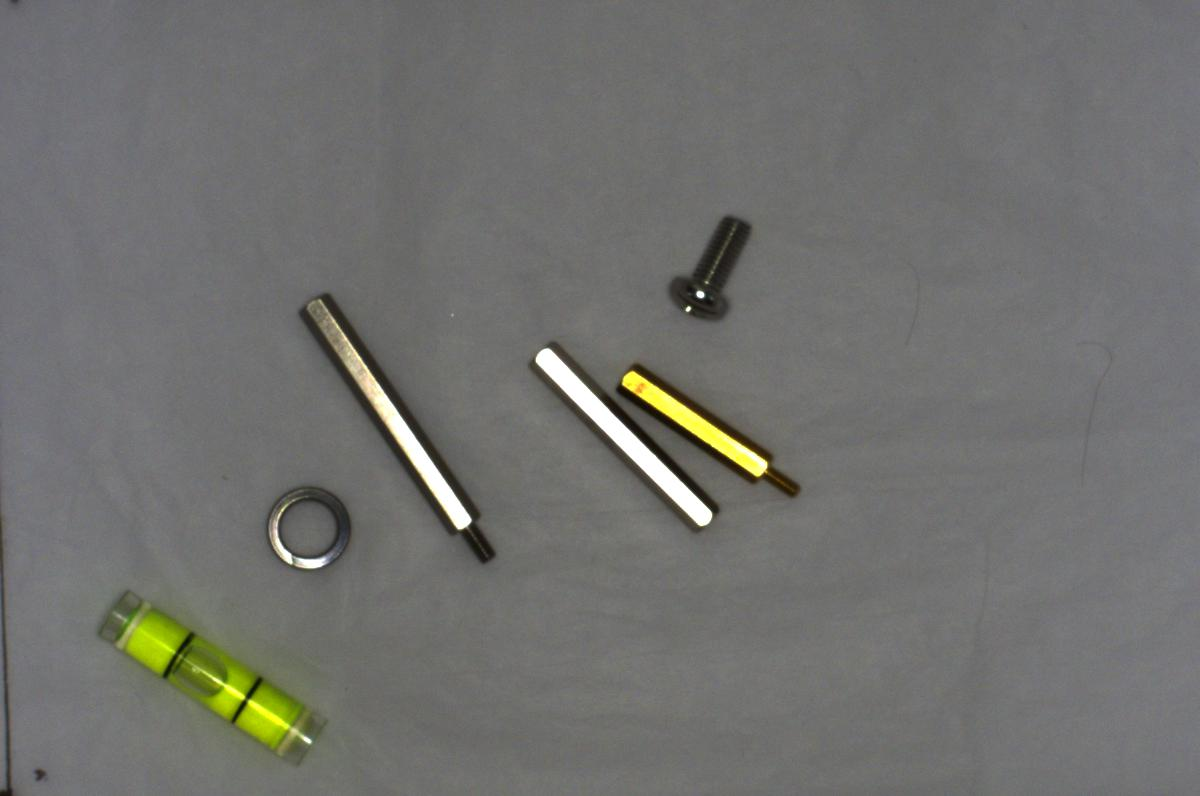Double hexagonal column: (522, 335, 719, 536)
Hexagon pillar: (614, 361, 804, 501)
Hexagonal steel column: (293, 286, 504, 566)
Horizontal bubble: (88, 586, 330, 768)
Round head screw: (664, 208, 758, 326)
Spring washer: (258, 476, 353, 581)
